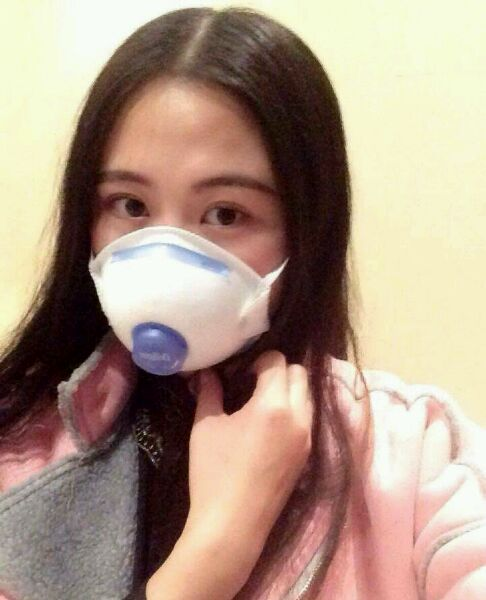face_mask: (92, 82, 284, 371)
